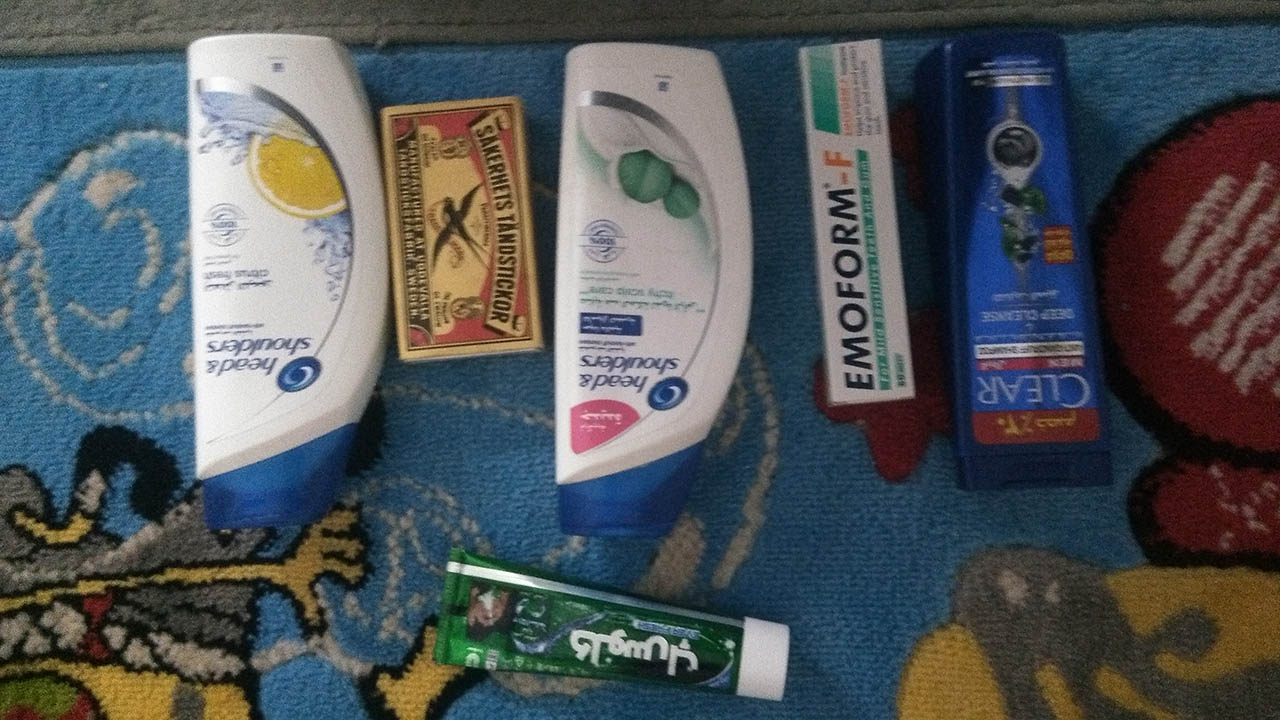Shampoo-Clear 4.7$: (915, 31, 1124, 487)
Toothpaste-Closeup 3.04$: (425, 548, 805, 711)
Toothpaste-F 1.5$: (784, 25, 926, 401)
match-sticks .90$: (372, 97, 550, 362)
shampoo-Lemon 3.5$: (168, 23, 402, 528)
shampoo-green 4.5$: (543, 28, 768, 527)
